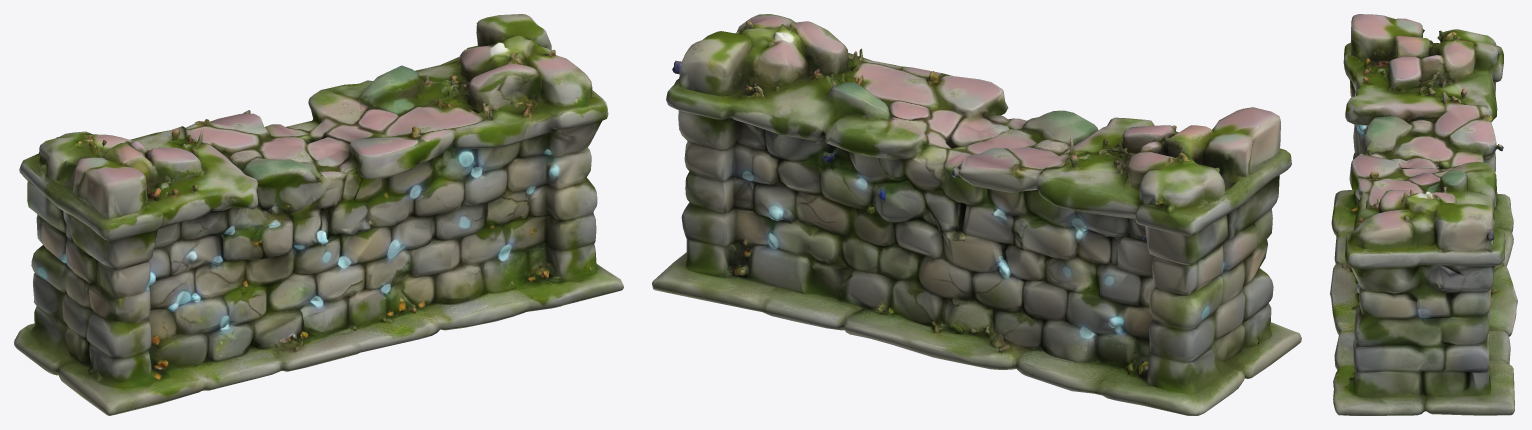
The model's file is wall.glb.
3 views of the same model, side by side, from view 1: azimuth 30°, elevation 25°; view 2: azimuth 150°, elevation 25°; view 3: azimuth 270°, elevation 25° (orthographic). The views are drawn at different scales.
Bounding box in the file's own units: 2 × 0.8412 × 0.7339.
Materials: 1 (1 with a texture image).
